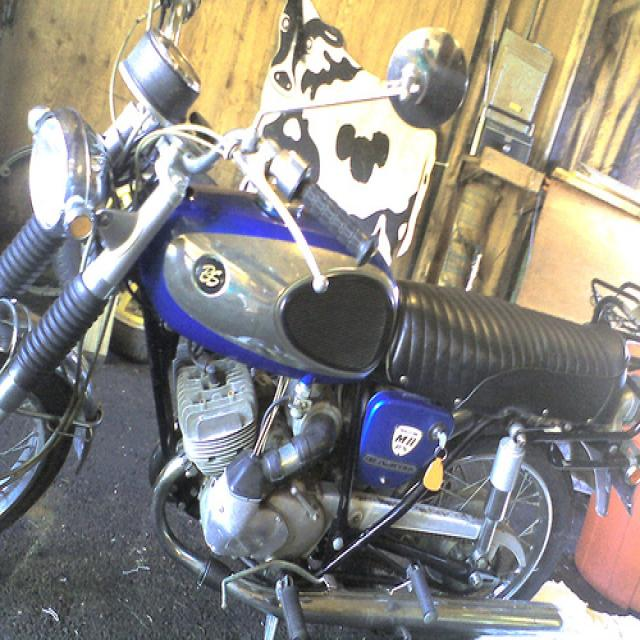motor: (0, 41, 639, 630)
